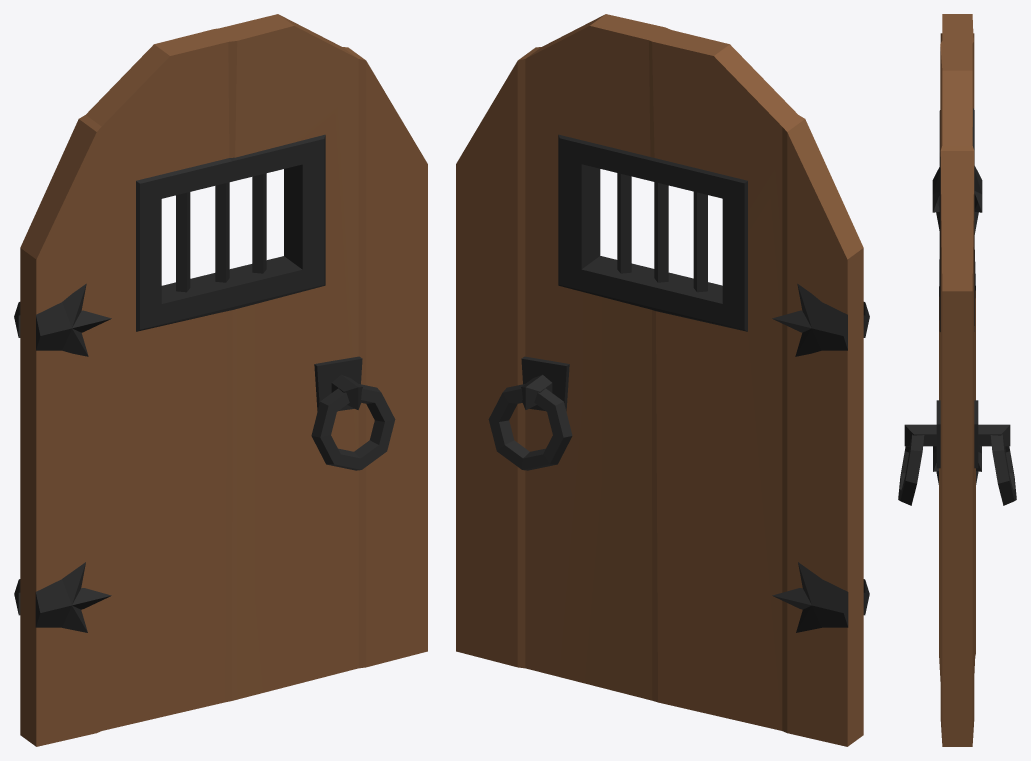
Rendered from fantasy_door-wood.fbx.
3 views of the same model, side by side, from view 1: azimuth 30°, elevation 25°; view 2: azimuth 150°, elevation 25°; view 3: azimuth 270°, elevation 25° (orthographic). The views are drawn at different scales.
Visible parts, largest first — view 1: fantasy_door_wood; view 2: fantasy_door_wood; view 3: fantasy_door_wood.
Boxes of the visible parts, x1,y1,x2,y2 form: fantasy_door_wood: (14,14,427,746); fantasy_door_wood: (456,14,869,746); fantasy_door_wood: (898,14,1016,746).
Size of the model in its own units: 125 by 200 by 34.98.
1 material, 1 textured.
